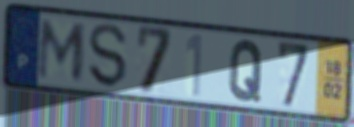1: (185, 32, 204, 99)
7: (135, 23, 176, 98), (275, 39, 312, 111)
M: (35, 16, 90, 83)
Q: (226, 38, 266, 104)
S: (87, 22, 129, 92)
